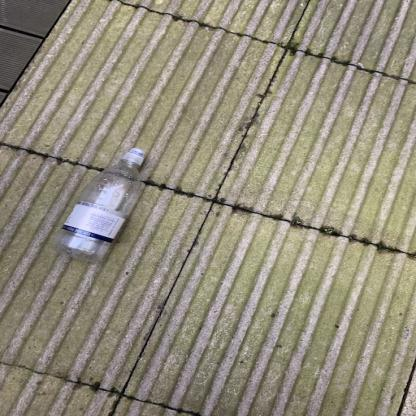trash: (56, 146, 150, 262)
